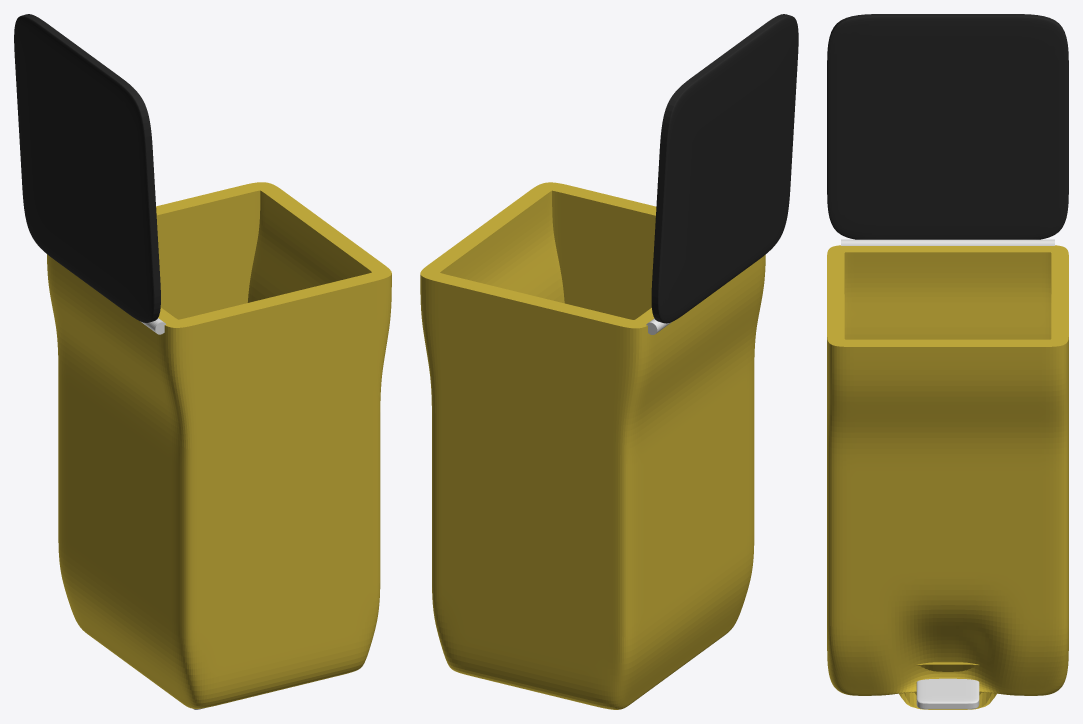
The model's file is poubelleYellow.fbx.
3 renders of one model, left to right at view 1: azimuth 30°, elevation 25°; view 2: azimuth 150°, elevation 25°; view 3: azimuth 270°, elevation 25°, orthographic. The views are drawn at different scales.
Parts seen in each view (by area): view 1: Cube.001_Cube.003; view 2: Cube.001_Cube.003; view 3: Cube.001_Cube.003.
Boxes of the visible parts, left/top/right/bottom form: Cube.001_Cube.003: left=14, top=14, right=391, bottom=709; Cube.001_Cube.003: left=420, top=14, right=798, bottom=709; Cube.001_Cube.003: left=827, top=14, right=1068, bottom=709.
Bounding box in the file's own units: 231 × 550 × 200.
